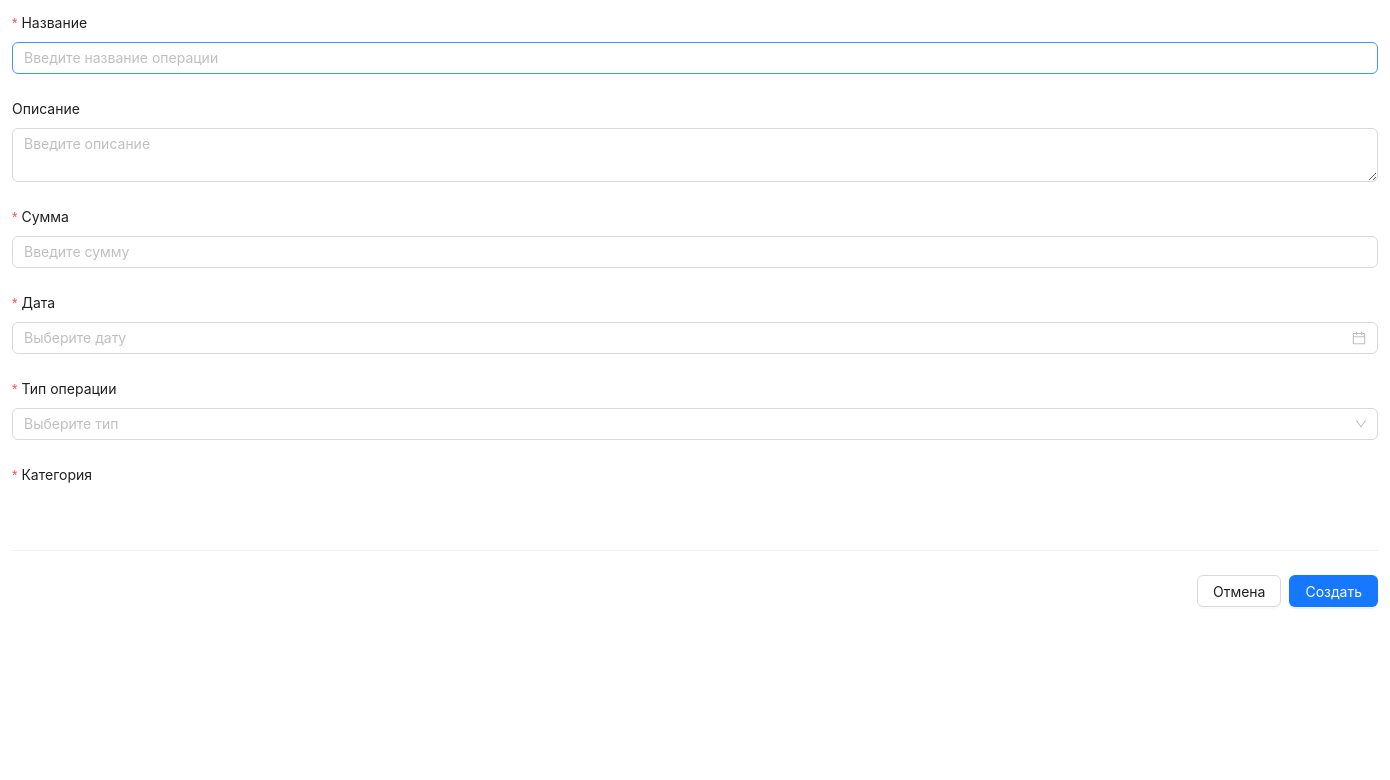
Test: OperationForm › Валидация формы › должен показывать ошибку при пустой сумме
Type "Тестовая операция" into the field labelled "Название".
click(695, 58); type("Тестовая операция")  # box [12, 42, 1378, 74]
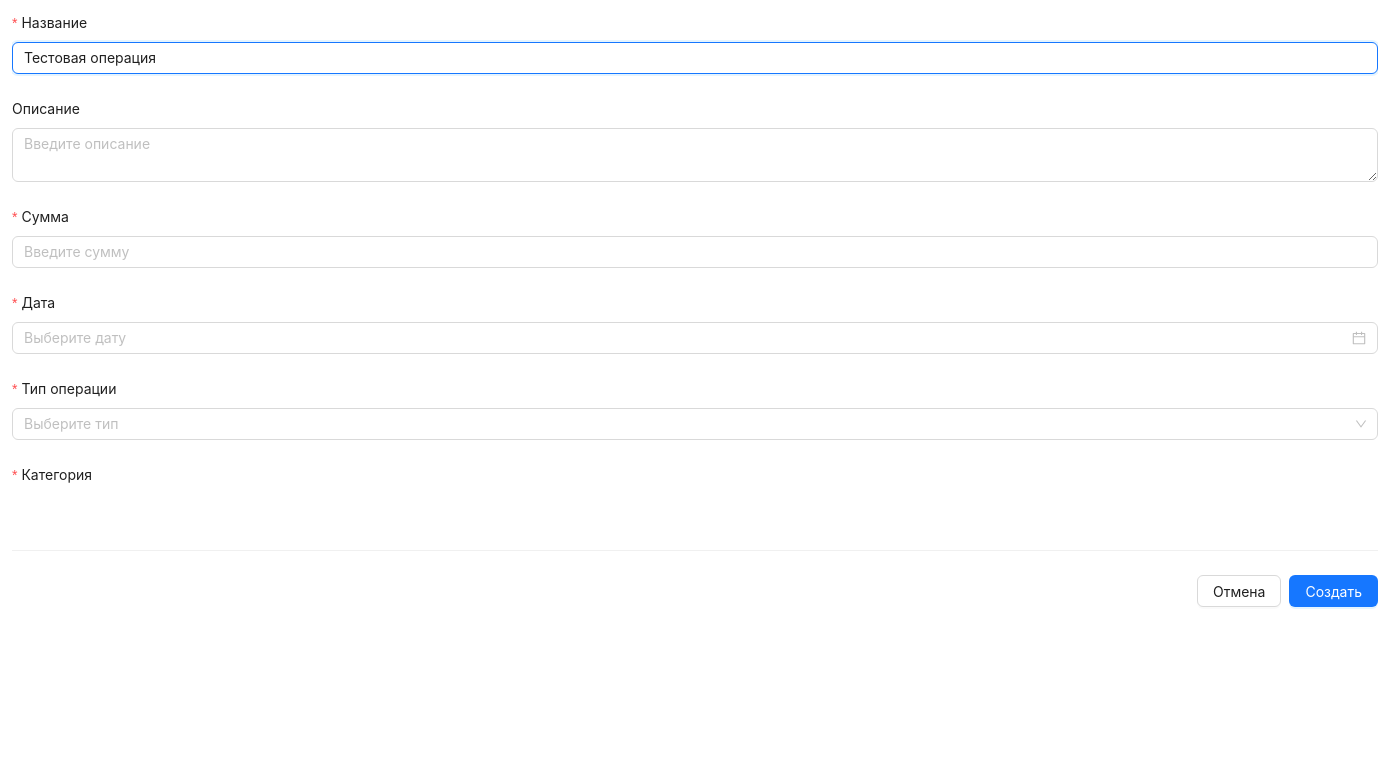
Click the button "Создать".
click(1334, 591)  # box [1290, 575, 1378, 607]
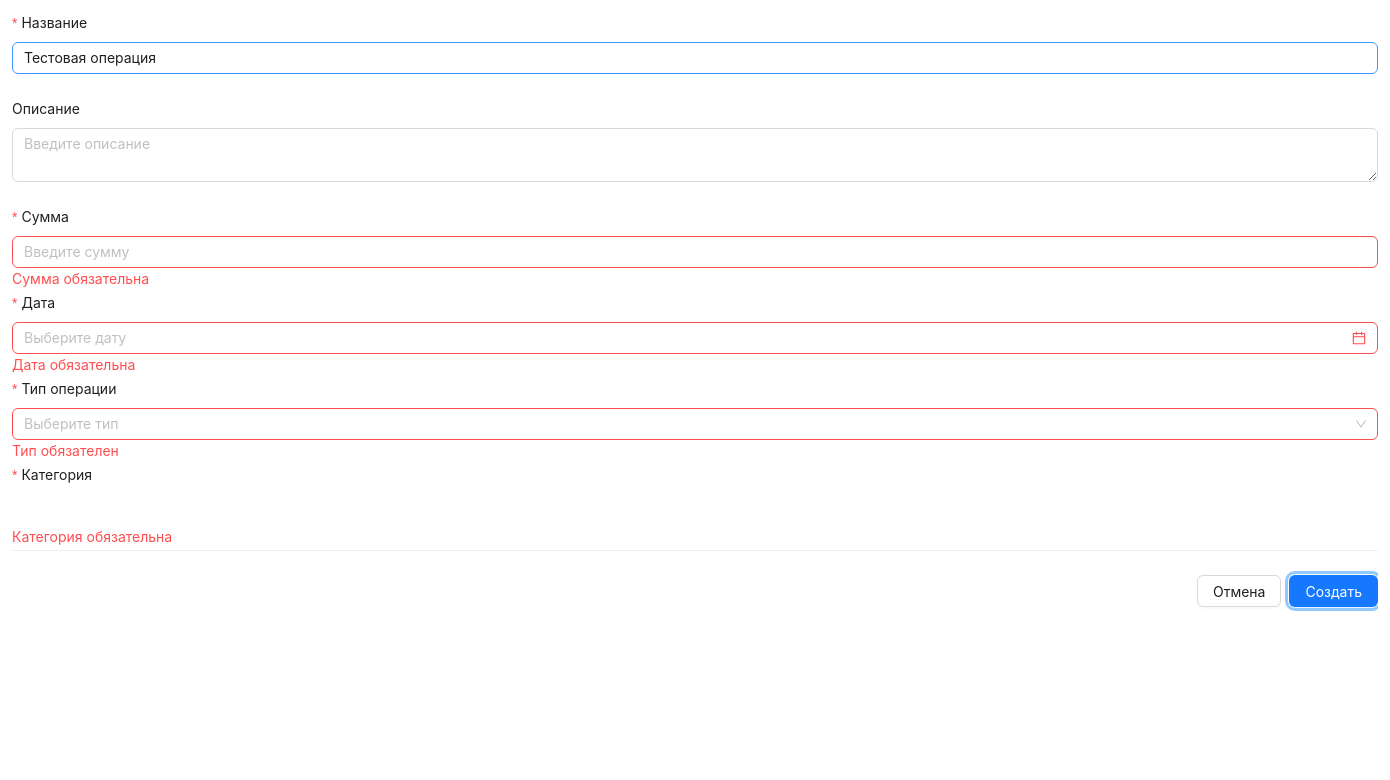
Expected: the text "Сумма обязательна" is shown, [12, 270, 149, 287]
